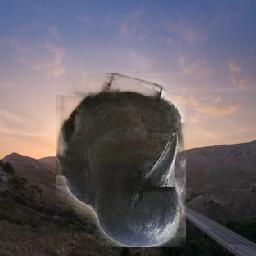Crow: (56, 73, 186, 247)
